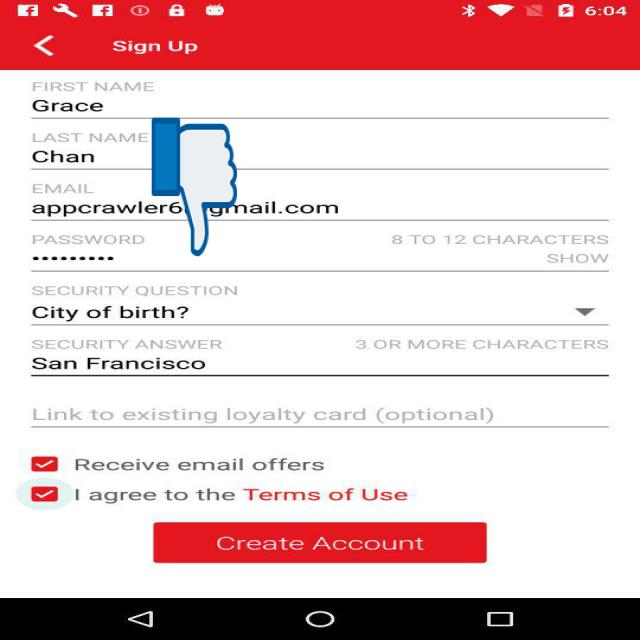obstruction: (152, 115, 237, 259)
